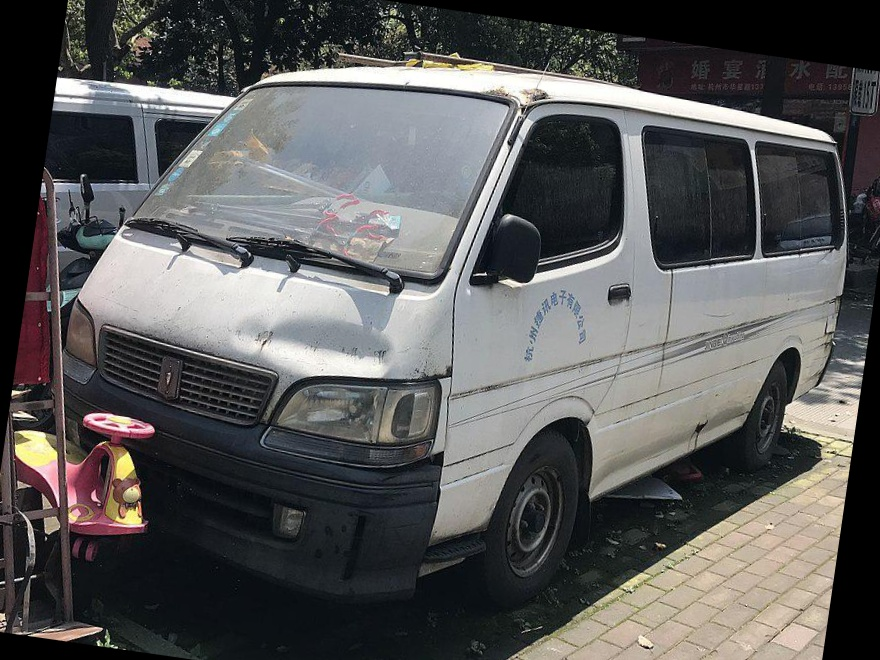van: (35, 0, 873, 648)
